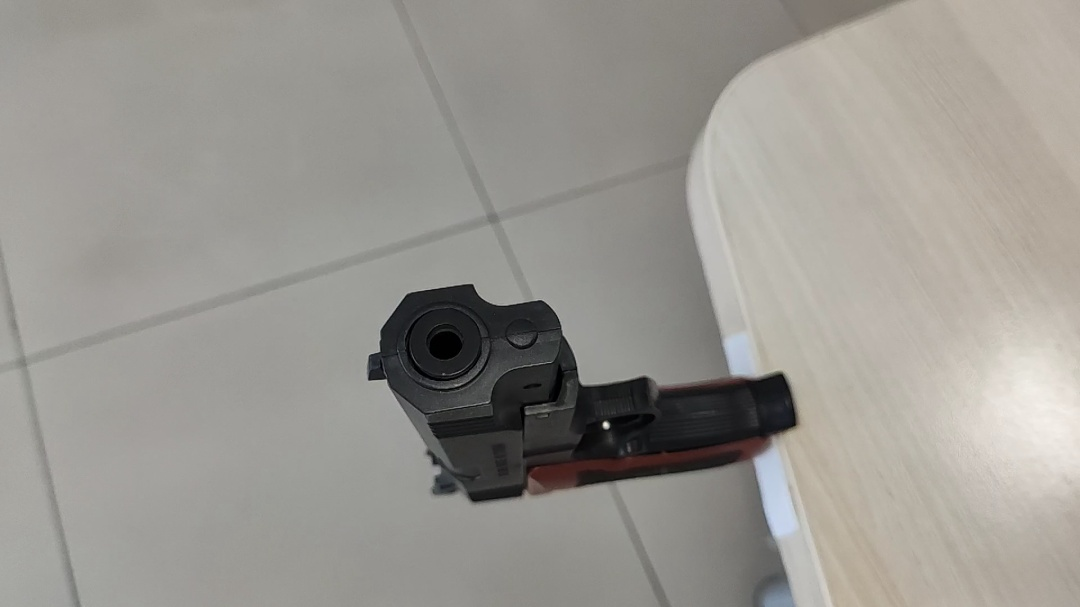gun: (375, 240, 424, 266)
